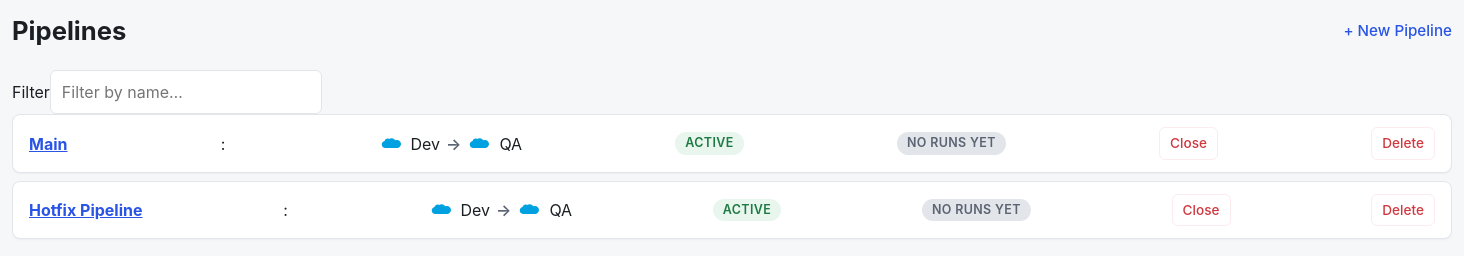
Pipelines page › filters the list by name, case-insensitively
Expected: the text "Main" is shown, [29, 134, 68, 154]
Type "hotfix" into the field named "filter pipelines by name" at x=186, y=92, box [50, 70, 322, 114]
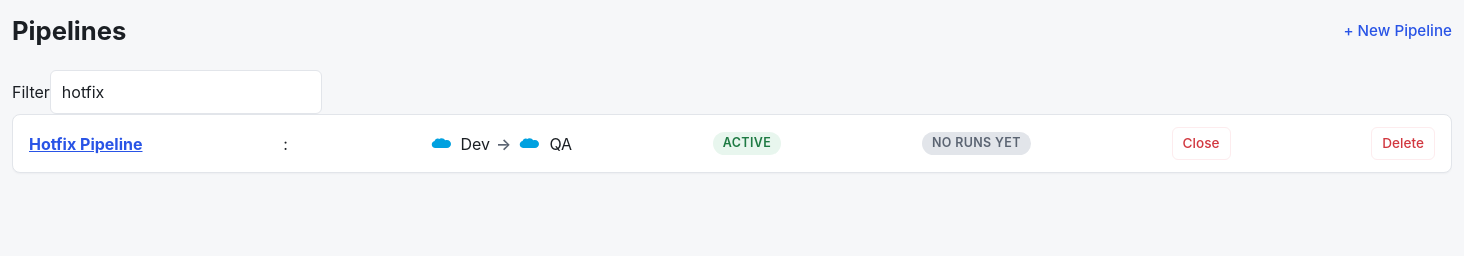
Expected: the text "Hotfix Pipeline" is shown, [29, 134, 142, 154]
Expected: the link "Main" is gone
